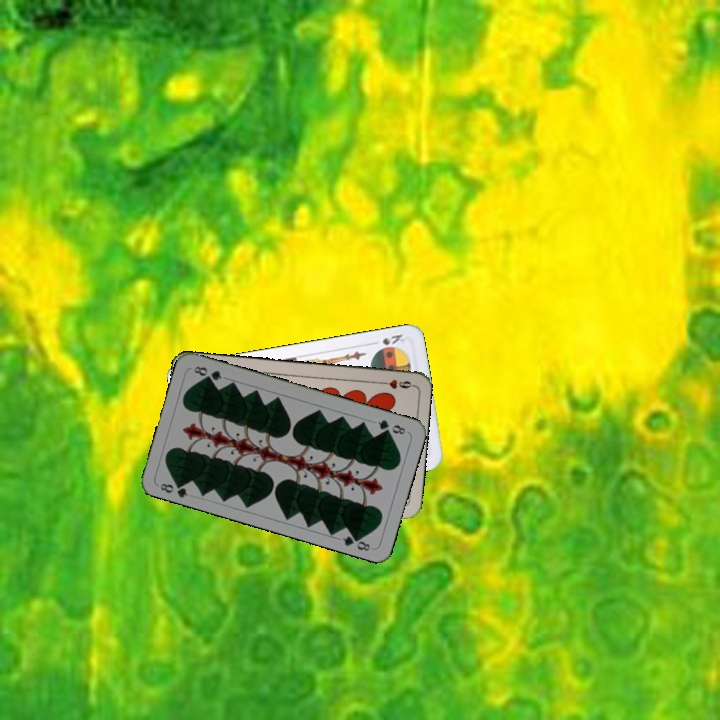G8: (156, 477, 190, 500), (374, 415, 408, 437)
H9: (375, 376, 415, 392)
SK: (374, 330, 407, 352)
